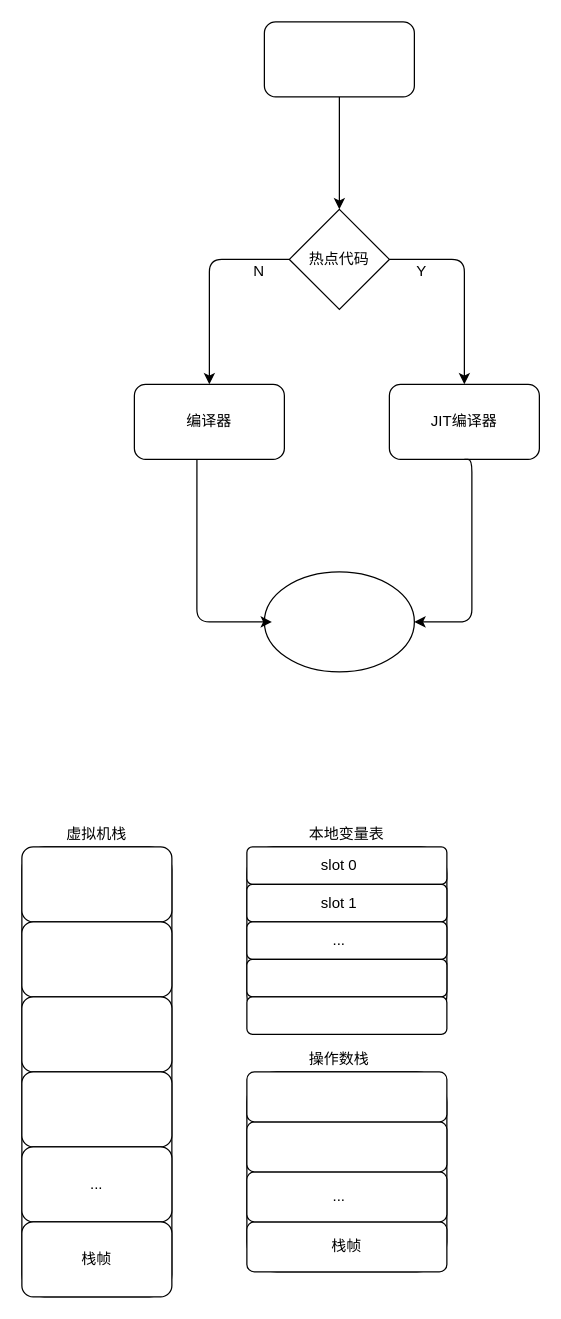
This 561x1319 diagram has some shape labels left out. Here are the shapes that lost their labels. From the top down, the centre of each, then its label:
the point at 338,59: ByteCode
the point at 338,621: OS和硬件
